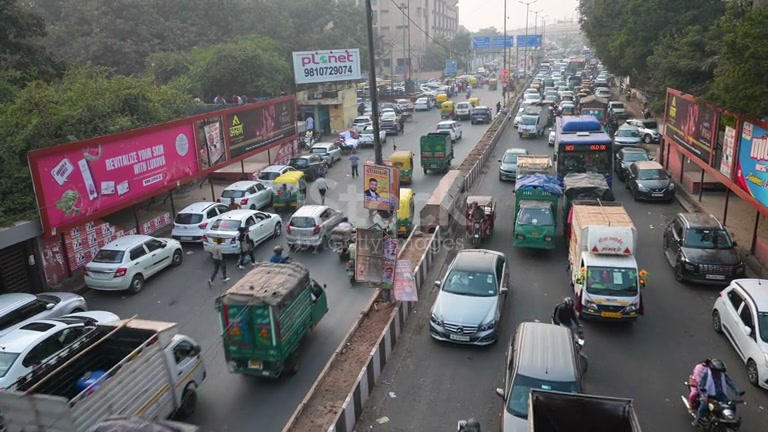bus: (554, 114, 612, 182)
car: (496, 321, 588, 430), (428, 248, 511, 347), (0, 314, 99, 393), (710, 279, 768, 391), (661, 211, 746, 285), (84, 233, 184, 294), (526, 389, 644, 432), (512, 173, 567, 251), (199, 208, 283, 256), (0, 291, 87, 333), (285, 203, 347, 253), (170, 200, 233, 242), (624, 161, 676, 203), (218, 179, 274, 211), (464, 194, 497, 243), (612, 146, 651, 181), (514, 104, 552, 139), (287, 154, 328, 182), (498, 149, 528, 181), (309, 141, 343, 167), (256, 164, 304, 181), (436, 119, 463, 142), (613, 126, 644, 146), (470, 107, 492, 125), (454, 102, 472, 121)
motorcycle: (689, 390, 746, 431)
pedestrian: (552, 296, 586, 347), (207, 245, 228, 284), (268, 245, 289, 263)
truck: (2, 314, 209, 430), (216, 260, 329, 382), (566, 199, 644, 322), (420, 132, 454, 175)
